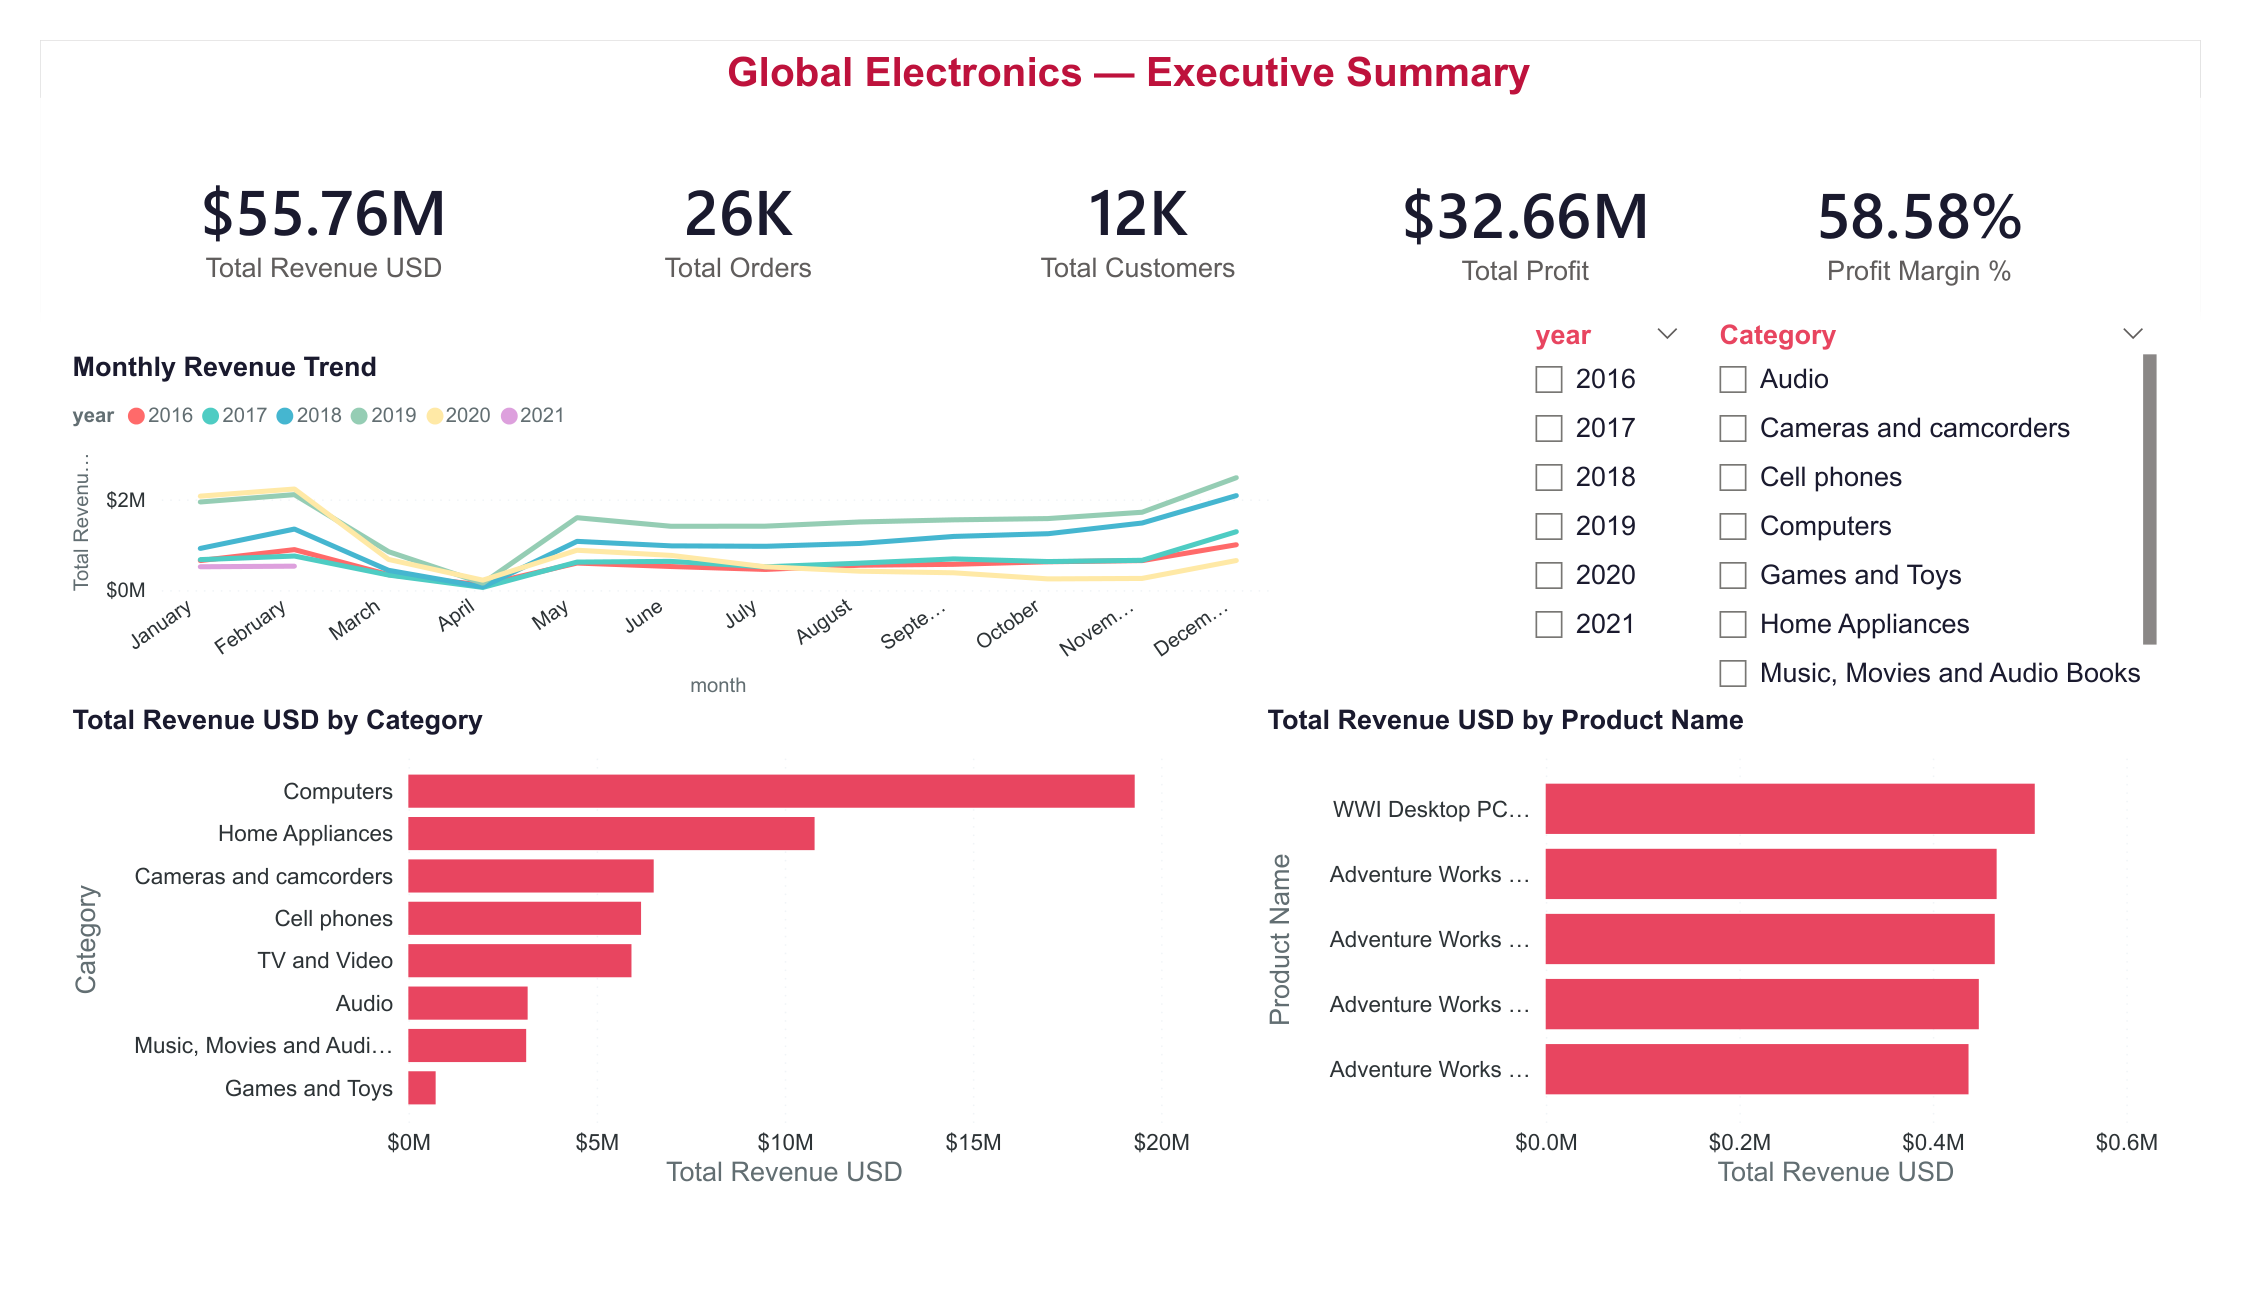

What the dashboard file says about the page in this screenshot:
{"tool":"powerbi","page":{"name":"Executive summary","canvas":[1280,720],"ordinal":0},"visuals":[{"type":"cardVisual","fields":{"Data":["Table_measure.Total Revenue USD"]},"box":[42.4,36.1,252.9,147.9],"z":0},{"type":"cardVisual","fields":{"Data":["Table_measure.Total Orders"]},"box":[295.3,36.1,237,147.9],"z":1000},{"type":"cardVisual","fields":{"Data":["Table_measure.Total Customers"]},"box":[532.3,36.1,237,147.9],"z":2000},{"type":"cardVisual","fields":{"Data":["Table_measure.Total Profit"]},"box":[769.3,37.6,222.7,147.9],"z":3000},{"type":"lineChart","title":"Monthly Revenue Trend","fields":{"Y":["Table_measure.Total Revenue USD"],"Category":["dim_date.month"],"Series":["dim_date.year"]},"box":[14.3,184.5,722.1,210],"z":4000},{"type":"slicer","fields":{"Values":["dim_date.year"]},"box":[873.2,160.7,109.8,229],"z":5000},{"type":"cardVisual","fields":{"Data":["Table_measure.Profit Margin %"]},"box":[992,37.6,243.4,147.9],"z":6000},{"type":"clusteredBarChart","title":"Total Revenue USD by Category","fields":{"Category":["Products.Category"],"Y":["Table_measure.Total Revenue USD"]},"box":[14.3,394.5,671.2,289.5],"z":7000},{"type":"slicer","fields":{"Values":["Products.Category"]},"box":[982.5,160.7,276.8,230.6],"z":8000},{"type":"clusteredBarChart","title":"Total Revenue USD by Product Name","fields":{"Category":["Products.Product Name"],"Y":["Table_measure.Total Revenue USD"]},"box":[722.1,394.5,537.6,289.5],"z":9000},{"type":"textbox","box":[296.7,0,696.7,70],"z":10000}]}

Visuals, with their boxes in screenshot pixels (x1, y1, x2, y2), scaled from the page's 1280x720 canvas onto the 2241x1296 screenshot:
cardVisual - Table_measure.Total Revenue USD: bbox=(74, 65, 517, 331)
cardVisual - Table_measure.Total Orders: bbox=(517, 65, 932, 331)
cardVisual - Table_measure.Total Customers: bbox=(932, 65, 1347, 331)
cardVisual - Table_measure.Total Profit: bbox=(1347, 68, 1737, 334)
"Monthly Revenue Trend" lineChart: bbox=(25, 332, 1289, 710)
slicer - dim_date.year: bbox=(1529, 289, 1721, 701)
cardVisual - Table_measure.Profit Margin %: bbox=(1737, 68, 2163, 334)
"Total Revenue USD by Category" clusteredBarChart: bbox=(25, 710, 1200, 1231)
slicer - Products.Category: bbox=(1720, 289, 2205, 704)
"Total Revenue USD by Product Name" clusteredBarChart: bbox=(1264, 710, 2205, 1231)
textbox: bbox=(519, 0, 1739, 126)
